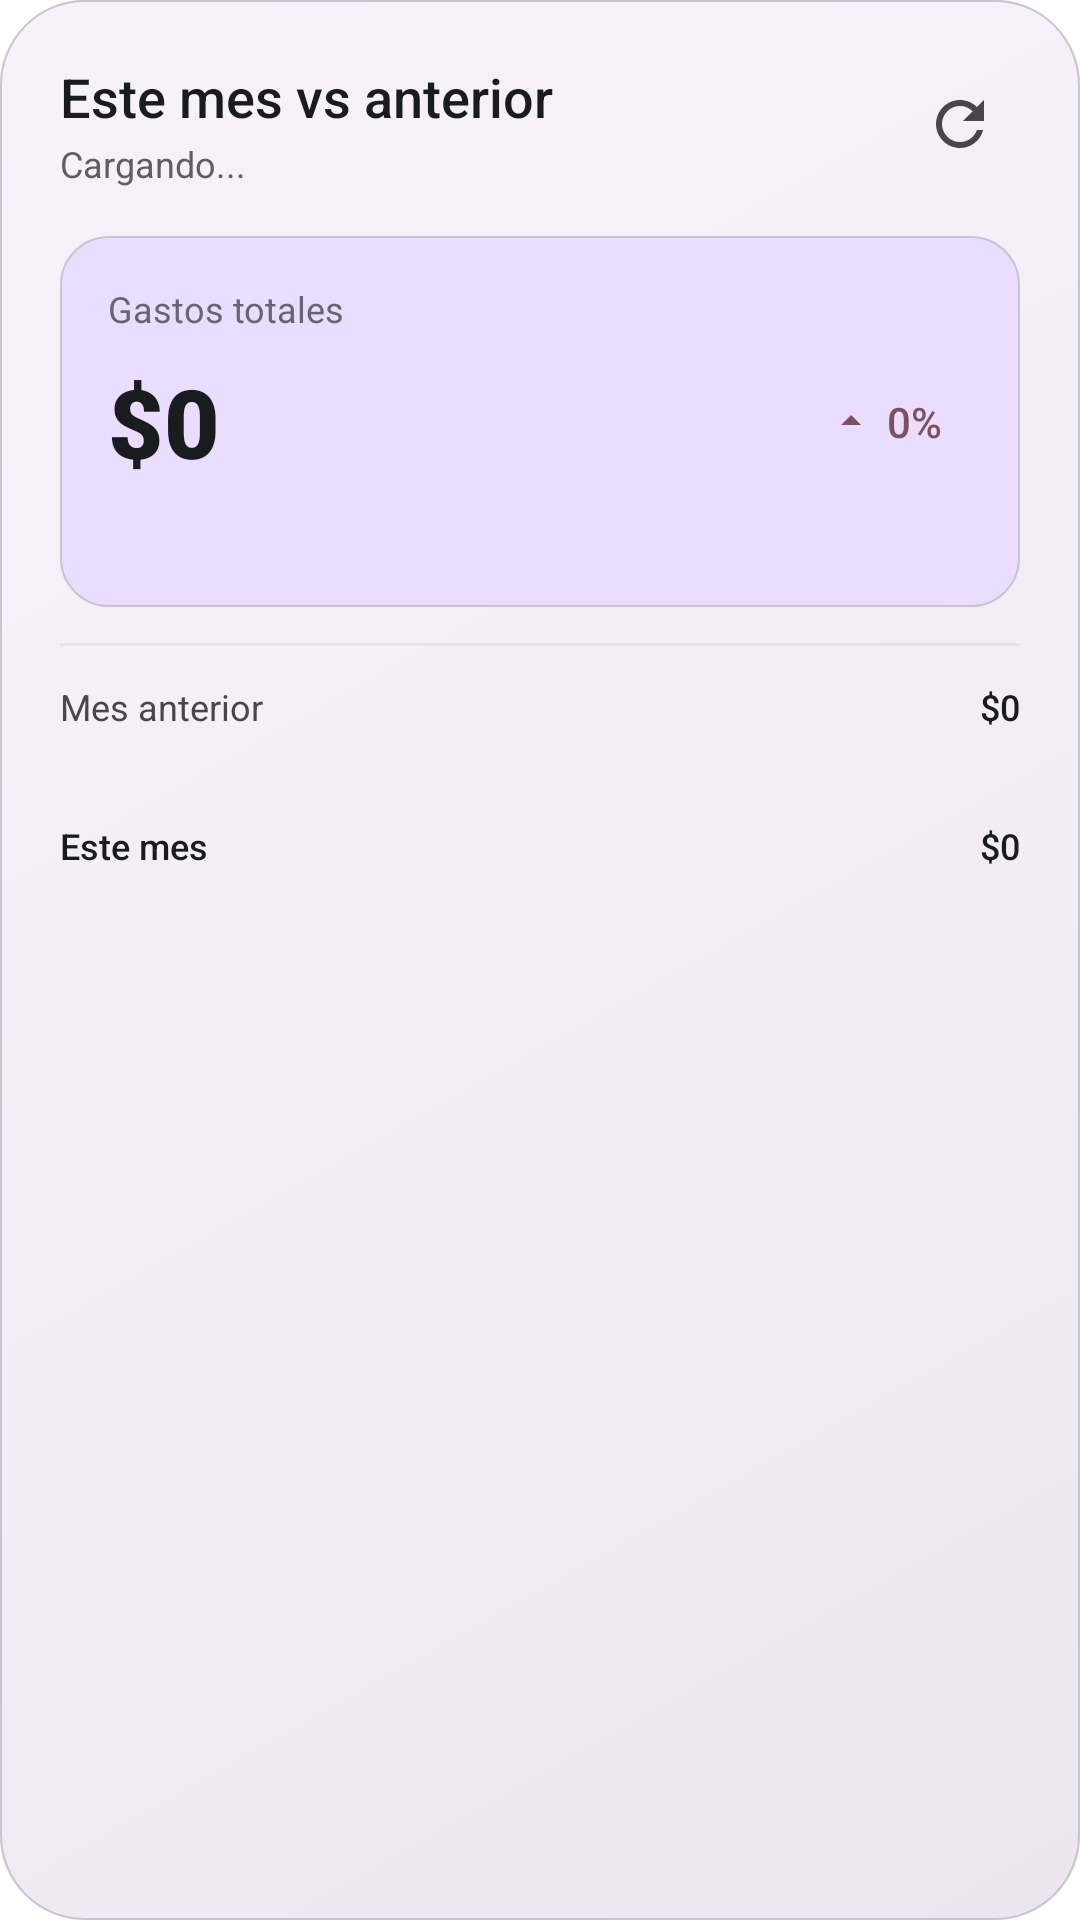

Where to tap for icons on this 1080 x 1920 app screen, as (x=x, y=y):
Actualizar datos: (x=960, y=124)
